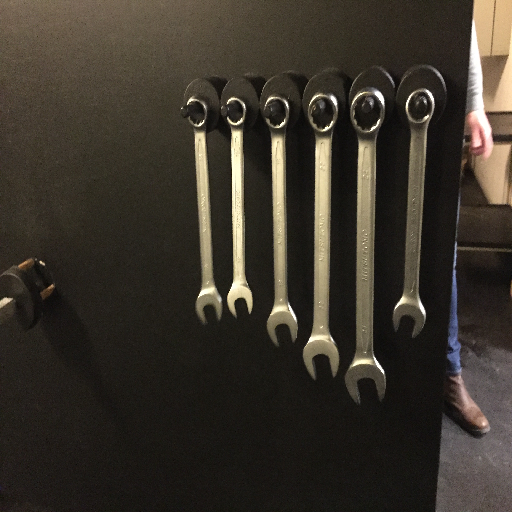bottom: (345, 358, 388, 407), (302, 331, 340, 383), (392, 295, 428, 338), (265, 303, 299, 348), (194, 286, 224, 326), (226, 282, 254, 320)
top: (348, 87, 387, 138), (306, 91, 341, 137), (404, 88, 437, 127), (261, 93, 292, 134), (220, 95, 251, 130), (184, 95, 210, 132)
